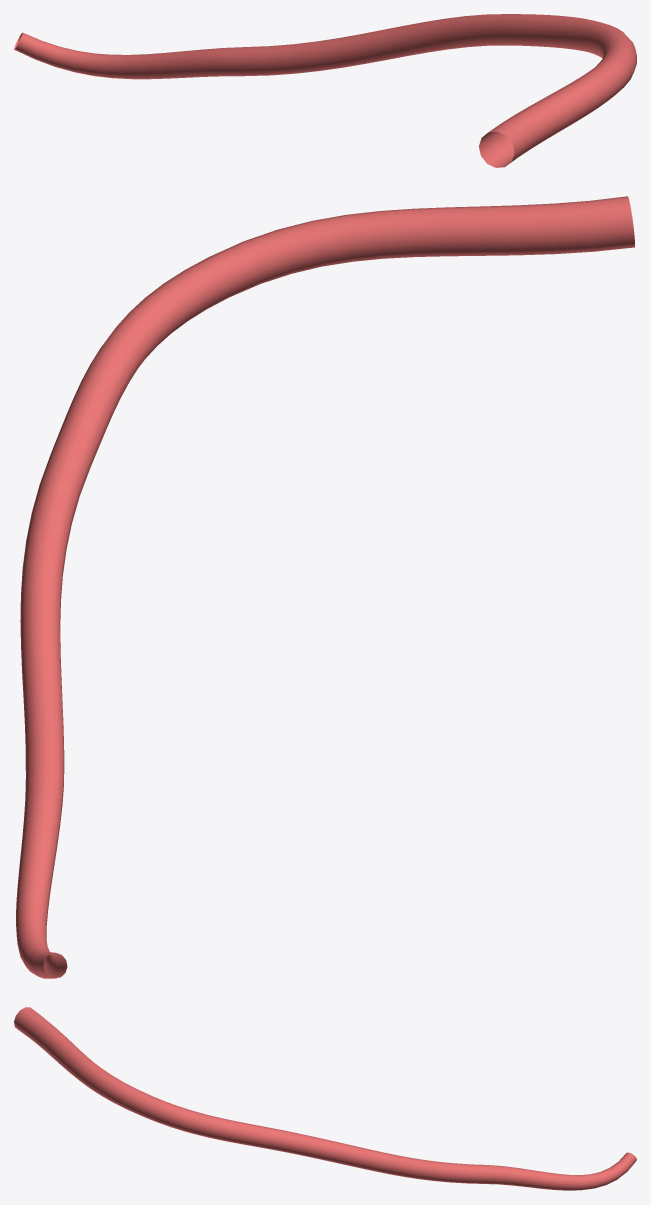
Rendered from Circumflex_scapular_artery.l_BezierCurve.255.glb.
3 renders of one model, top to bottom at view 1: azimuth 30°, elevation 25°; view 2: azimuth 150°, elevation 25°; view 3: azimuth 270°, elevation 25°, orthographic. The views are drawn at different scales.
Visible parts, largest first — view 1: Circumflex_scapular_artery.l_BezierCurve.255; view 2: Circumflex_scapular_artery.l_BezierCurve.255; view 3: Circumflex_scapular_artery.l_BezierCurve.255.
Part boxes in pixels (bbox=[...]): Circumflex_scapular_artery.l_BezierCurve.255: bbox=[14, 14, 636, 167]; Circumflex_scapular_artery.l_BezierCurve.255: bbox=[16, 196, 634, 978]; Circumflex_scapular_artery.l_BezierCurve.255: bbox=[14, 1007, 636, 1190].
Bounding box in the file's own units: 0.0133 × 0.0118 × 0.0385.
